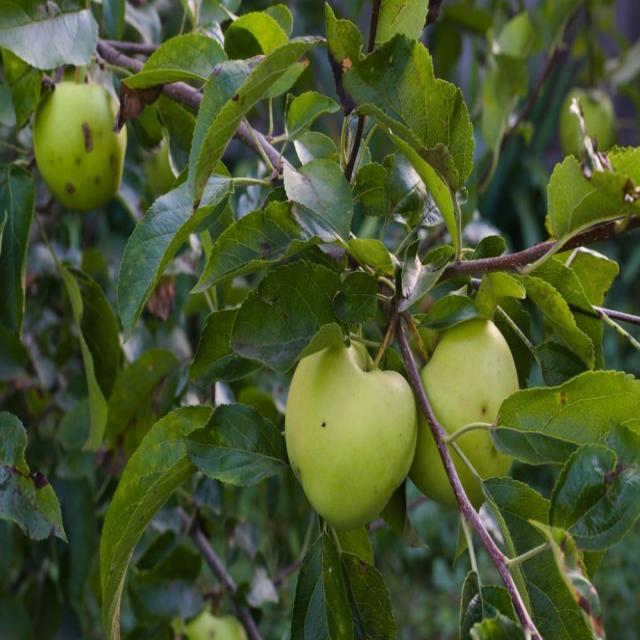Green Apple: (293, 327, 424, 520), (414, 304, 520, 515), (37, 70, 131, 200), (565, 85, 616, 154), (177, 602, 252, 640)
